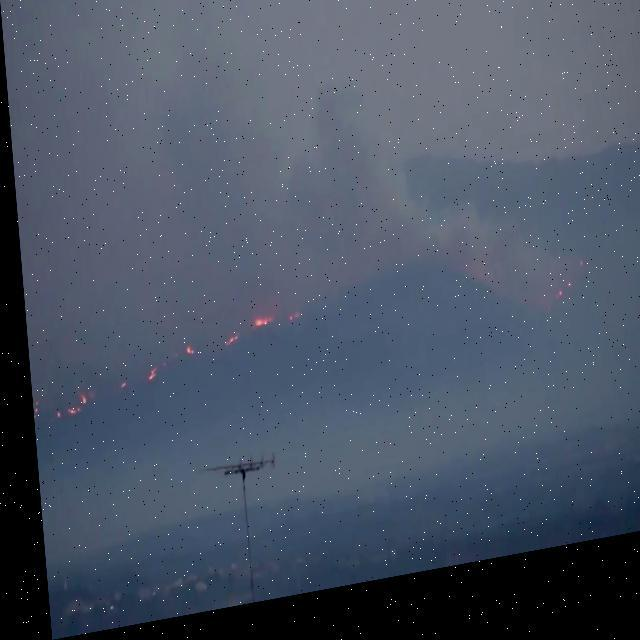Fire: (246, 324, 267, 340), (140, 368, 152, 387), (58, 404, 74, 418), (218, 342, 232, 355), (179, 349, 191, 363), (74, 396, 80, 406)
